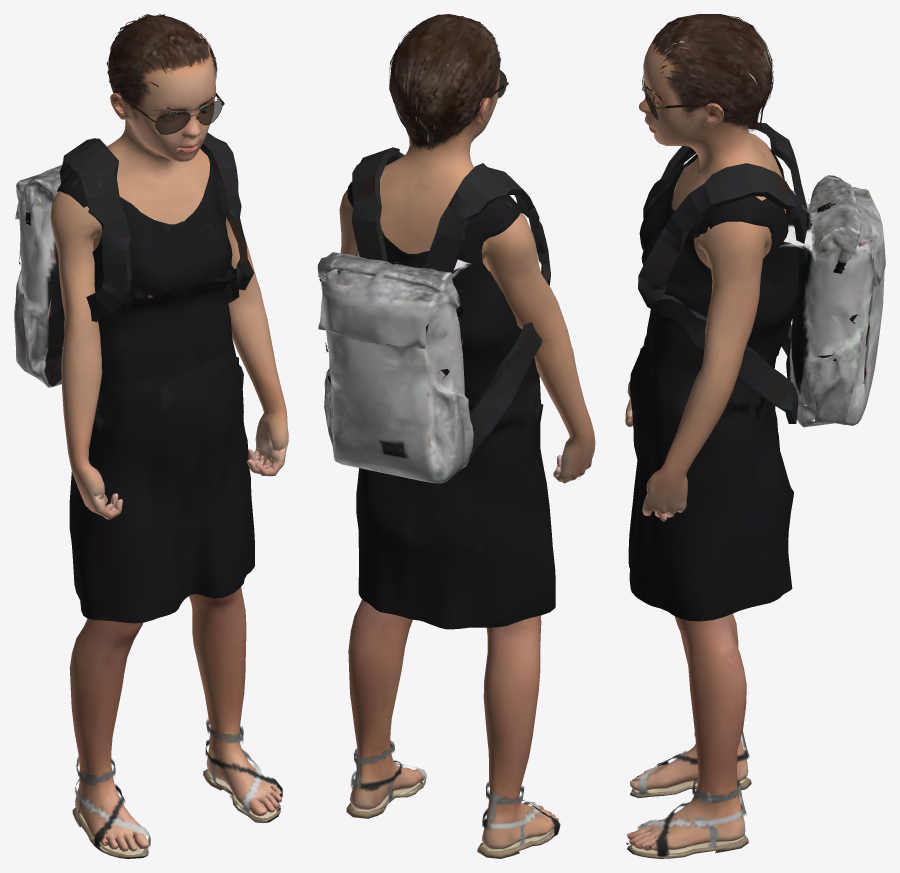
The picture shows the model from 3 angles, left to right: view 1: azimuth 30°, elevation 25°; view 2: azimuth 150°, elevation 25°; view 3: azimuth 270°, elevation 25°; orthographic projection. The views are drawn at different scales.
Parts seen in each view (by area): view 1: p02297; view 2: p02297; view 3: p02297.
Part boxes in pixels (x1=…): p02297: x1=14, y1=14, x2=288, y2=858; p02297: x1=317, y1=14, x2=595, y2=858; p02297: x1=625, y1=14, x2=885, y2=858.
Bounding box in the file's own units: 0.4057 × 1.39 × 0.41.
1 material, 1 textured.
